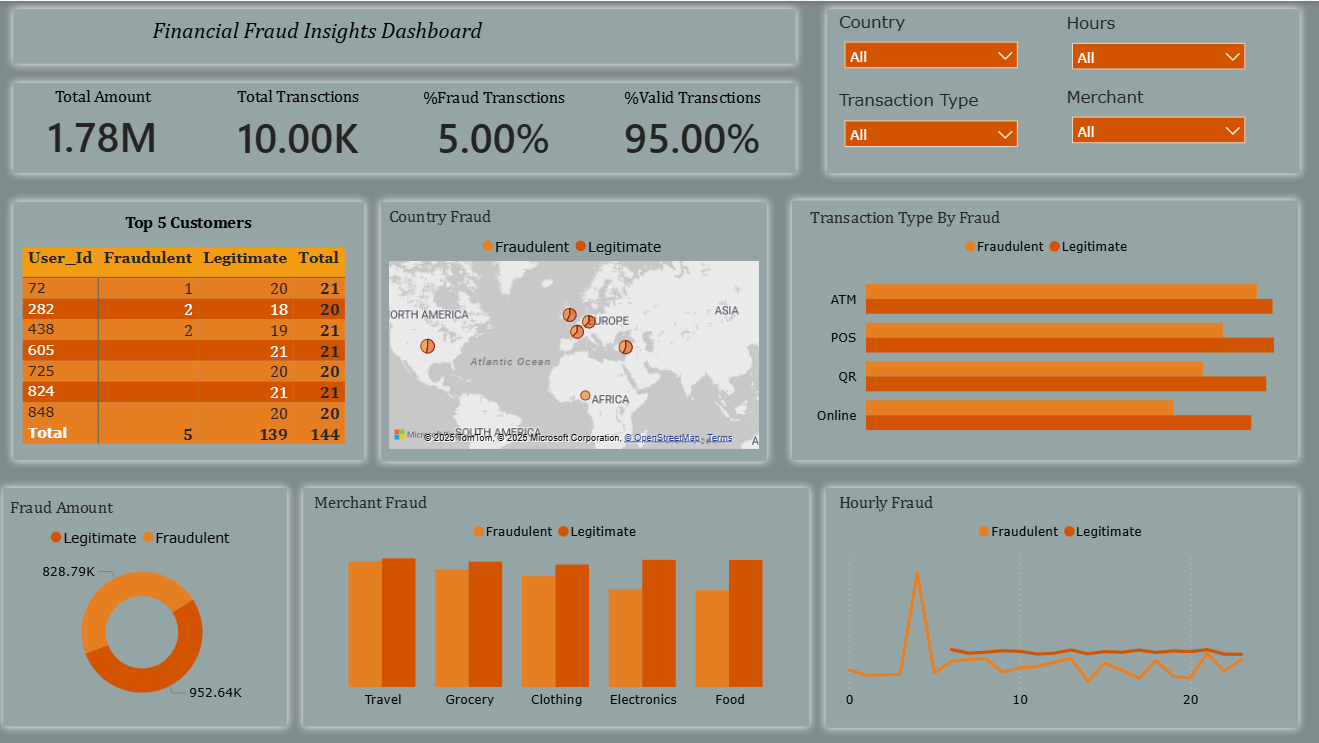

Layout of this report page (visuals, bound fields, positions):
{"tool":"powerbi","page":{"name":"Financial Fraud Dashboard","canvas":[1280,720],"ordinal":0},"visuals":[{"type":"shape","box":[793.8,462.1,471.7,247.3],"z":0},{"type":"lineChart","title":"Hourly Fraud","fields":{"Category":["financial fraud.Hour"],"Y":["Sum(financial fraud.Amount)"],"Series":["financial fraud.is_fraud"]},"box":[809.5,474.1,441.6,217.2],"z":1000},{"type":"shape","box":[289.5,462.1,504.3,246.1],"z":2000},{"type":"clusteredColumnChart","title":"Merchant Fraud","fields":{"Category":["financial fraud.Merchant_Category"],"Y":["Sum(financial fraud.Amount)"],"Series":["financial fraud.is_fraud"]},"box":[302.8,474.1,479,217.2],"z":3000},{"type":"shape","box":[0,462.1,289.5,246.1],"z":4000},{"type":"donutChart","title":"Fraud Amount","fields":{"Category":["financial fraud.is_fraud"],"Y":["Sum(financial fraud.Amount)"]},"box":[9.6,478.9,264.8,212.7],"z":5000},{"type":"shape","box":[761.3,184.6,504.3,266.6],"z":6000},{"type":"clusteredBarChart","title":"Transaction Type By Fraud","fields":{"Category":["financial fraud.Transaction_Type"],"Series":["financial fraud.is_fraud"],"Y":["Sum(financial fraud.Amount)"]},"box":[781.8,199.1,469.3,236.5],"z":7000},{"type":"shape","box":[364.3,185.8,388.5,266.6],"z":8000},{"type":"map","title":"Country Fraud","fields":{"Size":["Sum(financial fraud.Amount)"],"Series":["financial fraud.is_fraud"],"Category":["financial fraud.Country"]},"box":[375.2,197.9,366.8,240.1],"z":9000},{"type":"shape","box":[9.7,185.8,354.7,265.4],"z":10000},{"type":"pivotTable","fields":{"Rows":["financial fraud.User_Id"],"Values":["CountNonNull(financial fraud.User_Id)"],"Columns":["financial fraud.is_fraud"]},"box":[22,233.3,332.1,201.7],"z":11000},{"type":"shape","box":[10,71.3,771.1,102.6],"z":12000},{"type":"card","title":"Total Amount","fields":{"Values":["Sum(financial fraud.Amount)"]},"box":[22,82.3,164.7,76.8],"z":13000},{"type":"card","title":"Total Transctions","fields":{"Values":["CountNonNull(financial fraud.Transaction_Id)"]},"box":[196.2,82.3,192.1,79.6],"z":14000},{"type":"shape","box":[794.5,0,472,174.3],"z":15000},{"type":"slicer","title":"Country","fields":{"Values":["financial fraud.Country"]},"box":[809.6,9.6,188,59],"z":16000},{"type":"slicer","title":"Transaction Type","fields":{"Values":["financial fraud.Transaction_Type"]},"box":[809.6,85.1,188,76.8],"z":17000},{"type":"textbox","box":[32.9,199,307.4,34.3],"z":18000},{"type":"slicer","title":"Hours","fields":{"Values":["financial fraud.Hour"]},"box":[1029.2,11,188,76.8],"z":19000},{"type":"slicer","title":"Merchant","fields":{"Values":["financial fraud.Merchant_Category"]},"box":[1029.2,82.3,188,76.8],"z":20000},{"type":"card","title":"%Fraud Transctions","fields":{"Values":["All Measure.% Fraud"]},"box":[386.3,82.7,191,77],"z":21000},{"type":"card","title":"%Valid Transctions","fields":{"Values":["All Measure.% Valid"]},"box":[577.3,82.7,191,77],"z":22000},{"type":"shape","box":[10,0,771.1,68.4],"z":23000},{"type":"textbox","box":[142.5,11.4,543.1,57],"z":24000}]}

Visuals, with their boxes in screenshot pixels (x1, y1, x2, y2), scaled from the page's 1280x720 canvas onto the 1319x743 screenshot:
shape: 818,477,1304,732
"Hourly Fraud" lineChart: 834,489,1289,713
shape: 298,477,818,731
"Merchant Fraud" clusteredColumnChart: 312,489,806,713
shape: 0,477,298,731
"Fraud Amount" donutChart: 10,494,283,714
shape: 784,190,1304,466
"Transaction Type By Fraud" clusteredBarChart: 806,205,1289,450
shape: 375,192,776,467
"Country Fraud" map: 387,204,765,452
shape: 10,192,376,466
pivotTable - financial fraud.User_Id x CountNonNull(financial fraud.User_Id): 23,241,365,449
shape: 10,74,805,179
"Total Amount" card: 23,85,192,164
"Total Transctions" card: 202,85,400,167
shape: 819,0,1305,180
"Country" slicer: 834,10,1028,71
"Transaction Type" slicer: 834,88,1028,167
textbox: 34,205,351,241
"Hours" slicer: 1061,11,1254,91
"Merchant" slicer: 1061,85,1254,164
"%Fraud Transctions" card: 398,85,595,165
"%Valid Transctions" card: 595,85,792,165
shape: 10,0,805,71
textbox: 147,12,706,71
